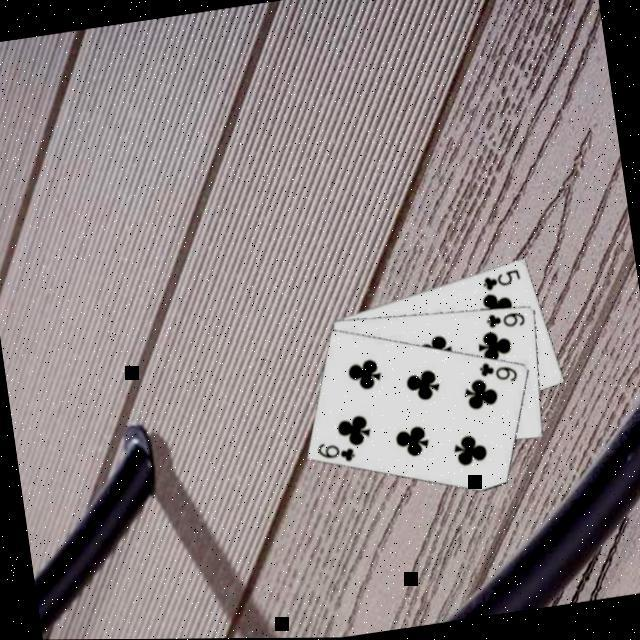5C: (478, 268, 522, 296)
6C: (474, 358, 520, 392), (312, 438, 358, 472), (481, 308, 528, 336)
